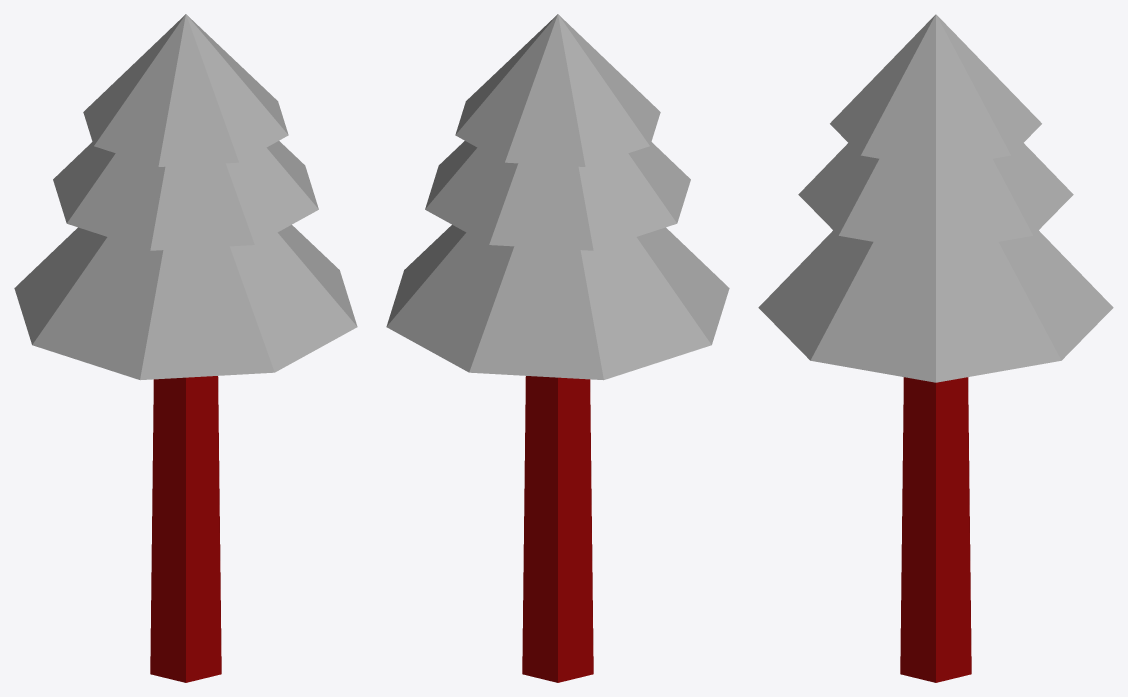
The model's file is Three_2.fbx.
3 views of the same model, side by side, from view 1: azimuth 30°, elevation 25°; view 2: azimuth 150°, elevation 25°; view 3: azimuth 270°, elevation 25° (orthographic).
Visible parts, largest first — view 1: pasted__group5_pasted__pasted__group1_pasted__pasted__pasted; view 2: pasted__group5_pasted__pasted__group1_pasted__pasted__pasted; view 3: pasted__group5_pasted__pasted__group1_pasted__pasted__pasted.
Boxes of the visible parts, bbox=[...] form: pasted__group5_pasted__pasted__group1_pasted__pasted__pasted: bbox=[14, 14, 357, 682]; pasted__group5_pasted__pasted__group1_pasted__pasted__pasted: bbox=[386, 14, 729, 682]; pasted__group5_pasted__pasted__group1_pasted__pasted__pasted: bbox=[758, 14, 1113, 682].
Size of the model in its own units: 4.75 by 9.62 by 4.75.
